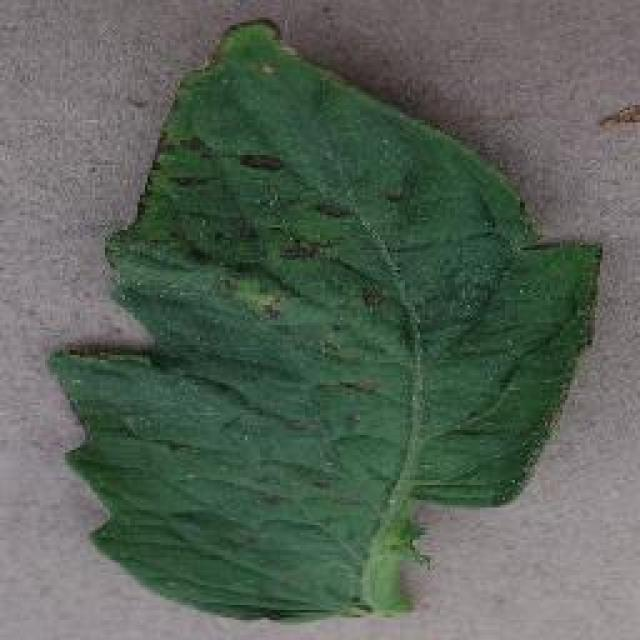Tom_Bacterial_spot: (152, 124, 420, 338), (286, 365, 402, 527)
